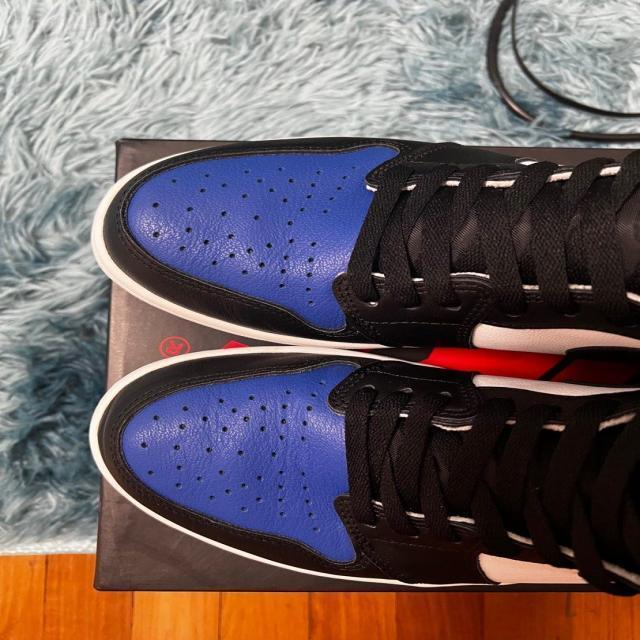nike original jordan 1: (85, 346, 640, 612), (94, 135, 632, 361)
